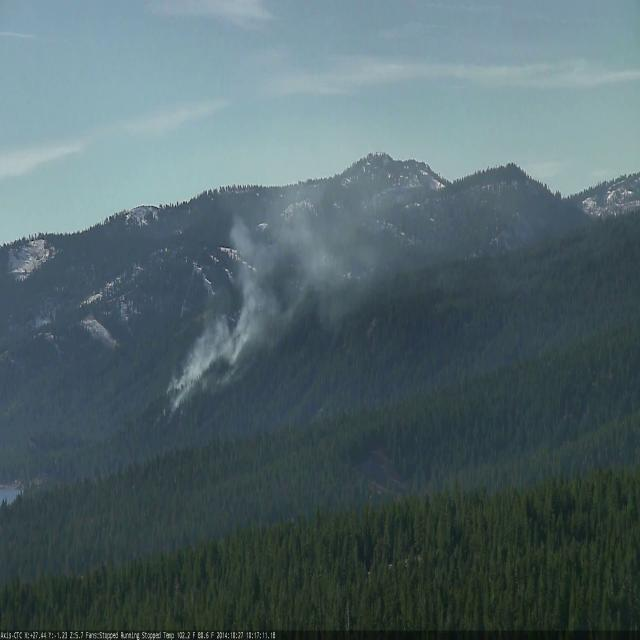smoke: (143, 86, 482, 440)
